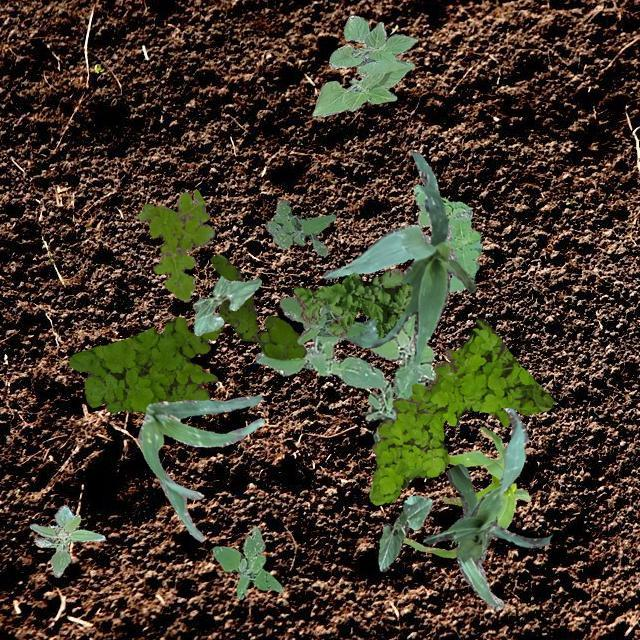crop: (320, 150, 476, 362), (136, 394, 264, 540), (422, 406, 550, 546), (402, 426, 530, 556), (312, 15, 416, 116), (446, 462, 504, 608), (378, 494, 432, 570), (192, 274, 260, 334)
weed: (368, 316, 554, 504), (254, 313, 436, 442), (68, 316, 222, 414), (210, 253, 306, 359), (136, 188, 214, 300), (293, 266, 412, 338), (412, 184, 480, 292), (28, 504, 104, 576), (210, 524, 282, 598), (278, 296, 366, 344), (264, 198, 334, 254)
